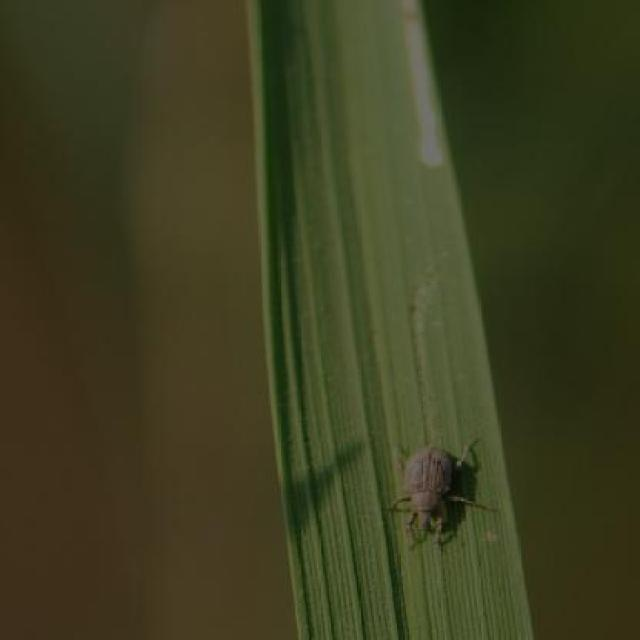rice-bug: (384, 438, 496, 548)
